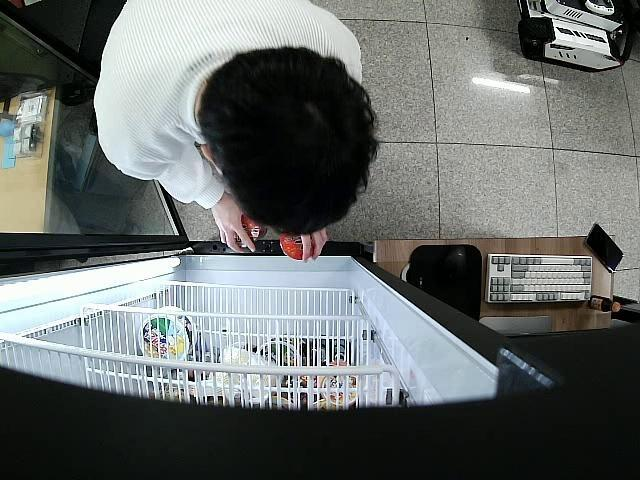02_shinRamen_S: (234, 213, 266, 250), (280, 232, 316, 261)
